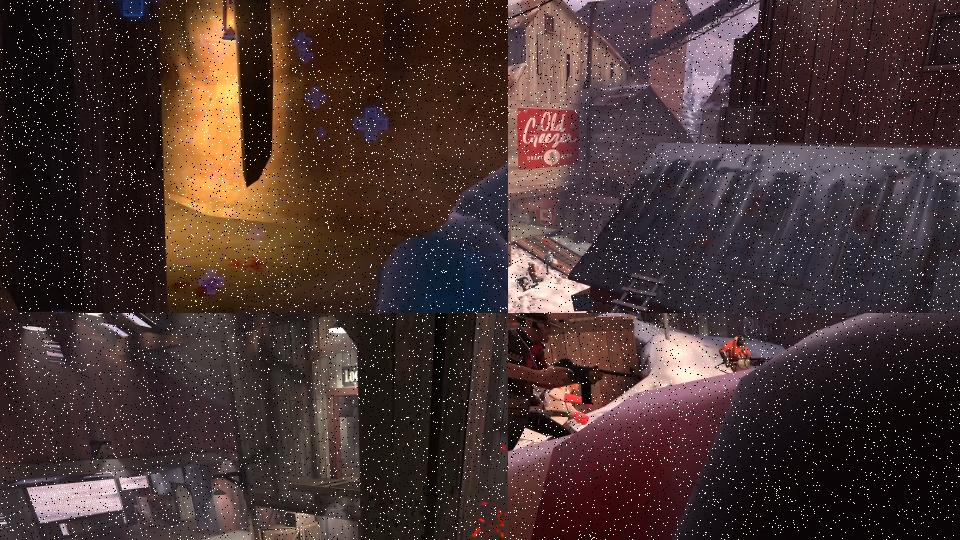Enemy: (331, 0, 508, 313), (508, 313, 643, 469), (713, 335, 774, 374), (545, 250, 558, 274), (526, 262, 540, 283)
